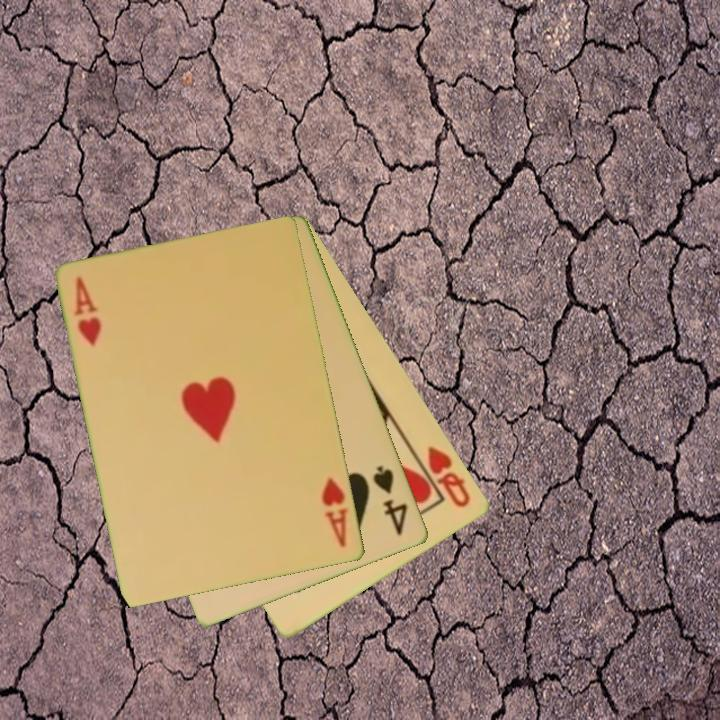4s: (369, 462, 411, 539)
Ah: (71, 273, 105, 349), (318, 473, 351, 551)
Qh: (424, 442, 474, 511)
